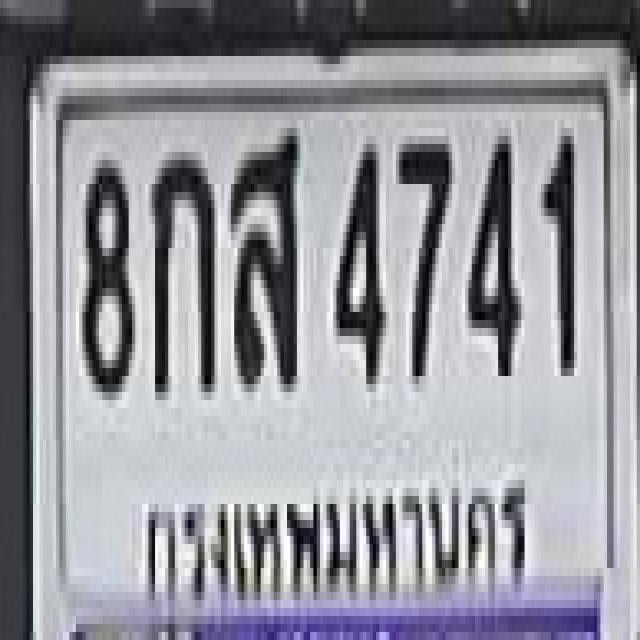1: (541, 128, 571, 368)
4: (465, 128, 518, 368), (333, 136, 383, 376)
7: (396, 136, 449, 376)
8: (79, 152, 132, 392)
A01: (149, 144, 211, 392)
A40: (228, 120, 297, 384)
BKK: (134, 457, 540, 622)
